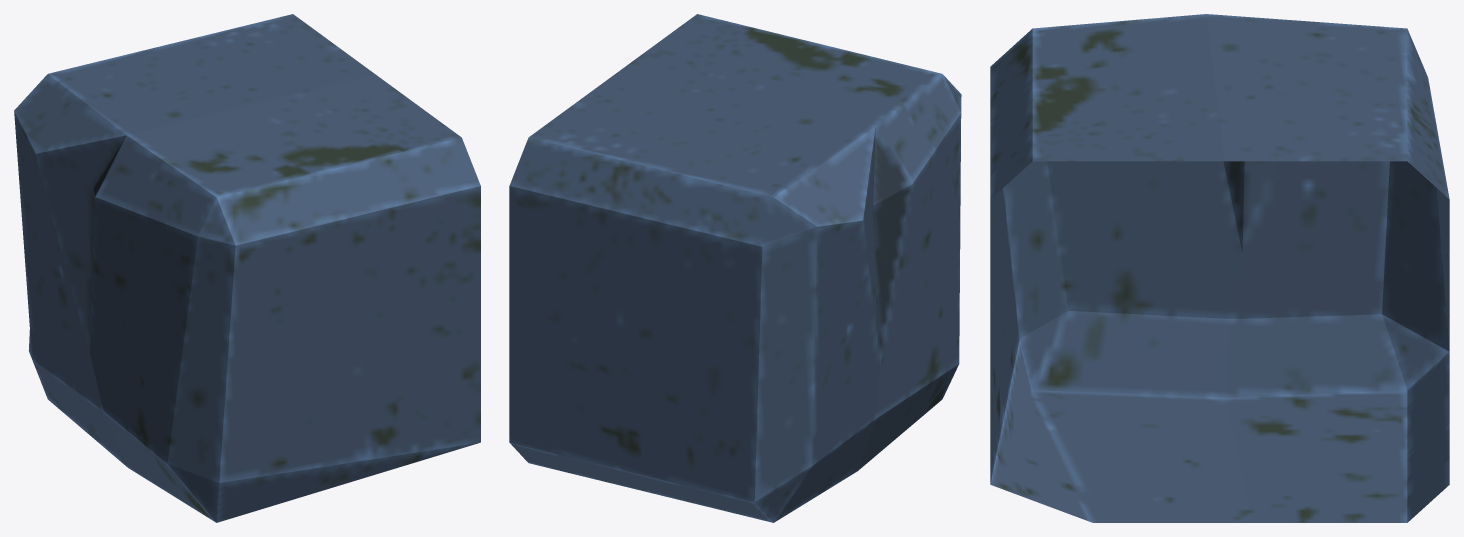
The model's file is Cegla_4.fbx.
3 renders of one model, left to right at view 1: azimuth 30°, elevation 25°; view 2: azimuth 150°, elevation 25°; view 3: azimuth 270°, elevation 25°, orthographic. The views are drawn at different scales.
Parts seen in each view (by area): view 1: Cegla_4; view 2: Cegla_4; view 3: Cegla_4.
Boxes of the visible parts, box(x1,y1,x2,y2) form: Cegla_4: box(14, 14, 480, 522); Cegla_4: box(509, 14, 961, 522); Cegla_4: box(990, 14, 1449, 522).
Size of the model in its own units: 190 by 209 by 230.
